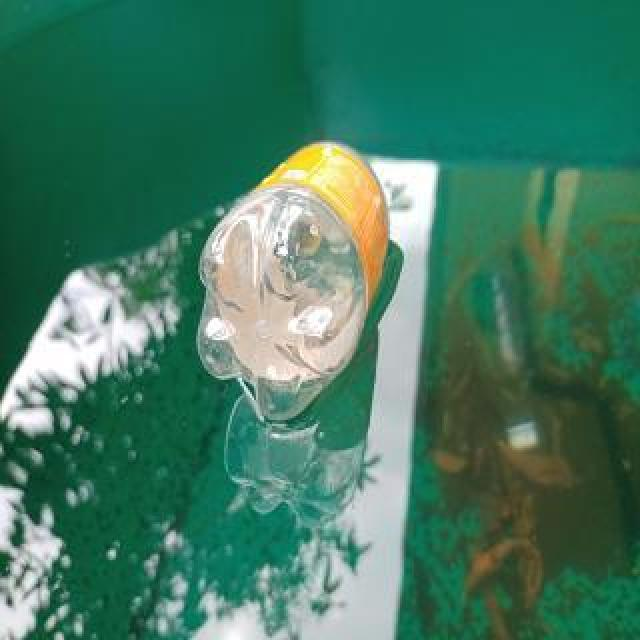bottle: (192, 135, 392, 429)
